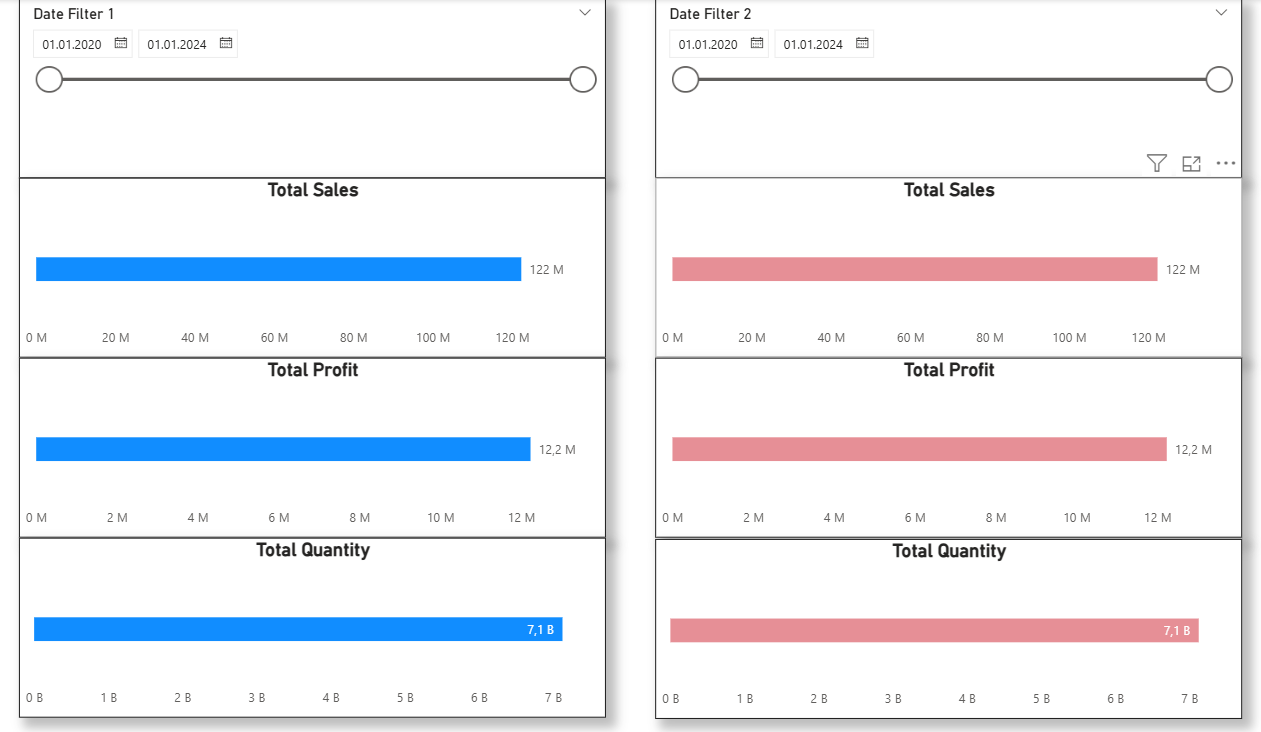

The page's visual inventory and layout, read from the dashboard file:
{"tool":"powerbi","page":{"name":"Compare Sales/Profit/Quantity 2","canvas":[1280,720],"ordinal":4},"visuals":[{"type":"slicer","fields":{"Values":["Fact Table.Date (dd/mm/yyyy)"]},"box":[48.8,0,566.2,172.5],"z":0},{"type":"slicer","fields":{"Values":["Fact Table.Date (dd/mm/yyyy)"]},"box":[662.5,0,566.2,172.5],"z":1000},{"type":"barChart","title":"Total Sales","fields":{"Y":["Sum(Fact Table.Net Sales)"]},"box":[48.8,172.5,566.2,173.8],"z":2000},{"type":"barChart","title":"Total Profit","fields":{"Y":["Sum(Fact Table.Profit)"]},"box":[48.8,346.2,566.2,173.8],"z":3000},{"type":"barChart","title":"Total Quantity","fields":{"Y":["Sum(Fact Table.Units Sold)"]},"box":[48.8,520,566.2,173.8],"z":4000},{"type":"barChart","title":"Total Sales","fields":{"Y":["Sum(Fact Table.Net Sales)"]},"box":[662.5,172.5,566.2,173.8],"z":5000},{"type":"barChart","title":"Total Profit","fields":{"Y":["Sum(Fact Table.Profit)"]},"box":[662.5,346.2,566.2,173.8],"z":6000},{"type":"barChart","title":"Total Quantity","fields":{"Y":["Sum(Fact Table.Units Sold)"]},"box":[662.5,521.2,566.2,173.8],"z":7000}]}

Visuals, with their boxes in screenshot pixels (x1, y1, x2, y2):
slicer - Fact Table.Date (dd/mm/yyyy): 12/0/603/174
slicer - Fact Table.Date (dd/mm/yyyy): 652/0/1244/174
"Total Sales" barChart: 12/174/603/355
"Total Profit" barChart: 12/355/603/536
"Total Quantity" barChart: 12/536/603/718
"Total Sales" barChart: 652/174/1244/355
"Total Profit" barChart: 652/355/1244/536
"Total Quantity" barChart: 652/538/1244/719
